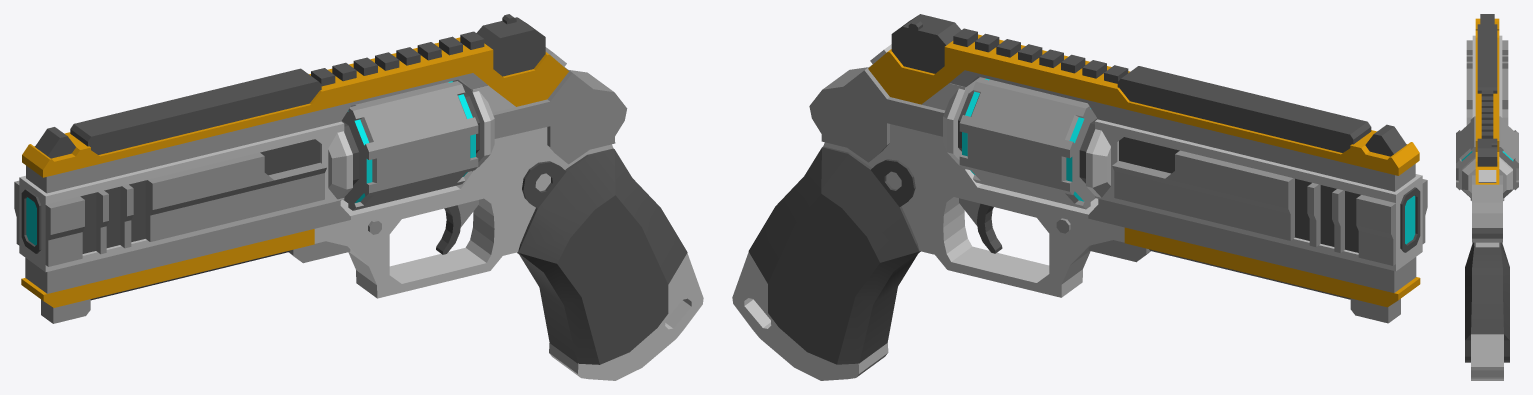
File: SM_REV01.fbx
3 renders of one model, left to right at view 1: azimuth 30°, elevation 25°; view 2: azimuth 150°, elevation 25°; view 3: azimuth 270°, elevation 25°, orthographic. The views are drawn at different scales.
Visible parts, largest first — view 1: SM_REV01, SM_REV01_Cylinder, SM_REV01_Trigger; view 2: SM_REV01, SM_REV01_Cylinder, SM_REV01_Trigger; view 3: SM_REV01, SM_REV01_Cylinder.
Boxes of the visible parts, bbox=[...] form: SM_REV01: bbox=[14, 14, 703, 380]; SM_REV01_Cylinder: bbox=[341, 81, 479, 210]; SM_REV01_Trigger: bbox=[436, 200, 478, 254]; SM_REV01: bbox=[732, 14, 1427, 380]; SM_REV01_Cylinder: bbox=[958, 78, 1097, 209]; SM_REV01_Trigger: bbox=[959, 198, 1002, 253]; SM_REV01: bbox=[1462, 14, 1512, 380]; SM_REV01_Cylinder: bbox=[1456, 116, 1518, 200].
Size of the model in its own units: 33.23 by 17.86 by 4.82.
